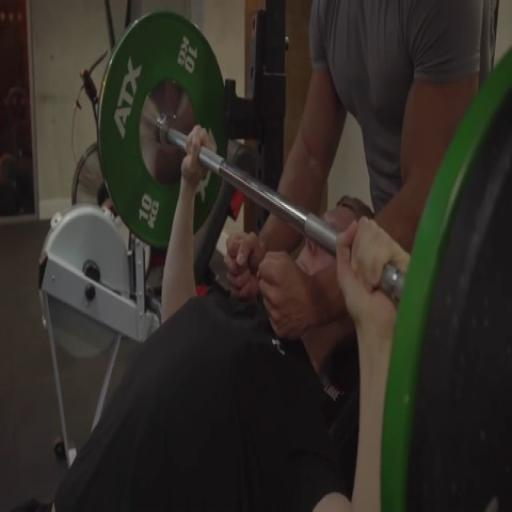exercise: (47, 124, 410, 510)
